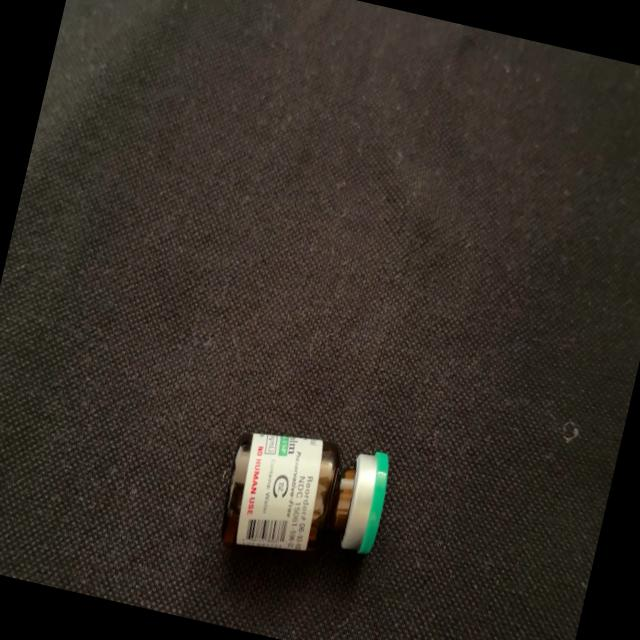midazolm: (218, 421, 392, 574)
